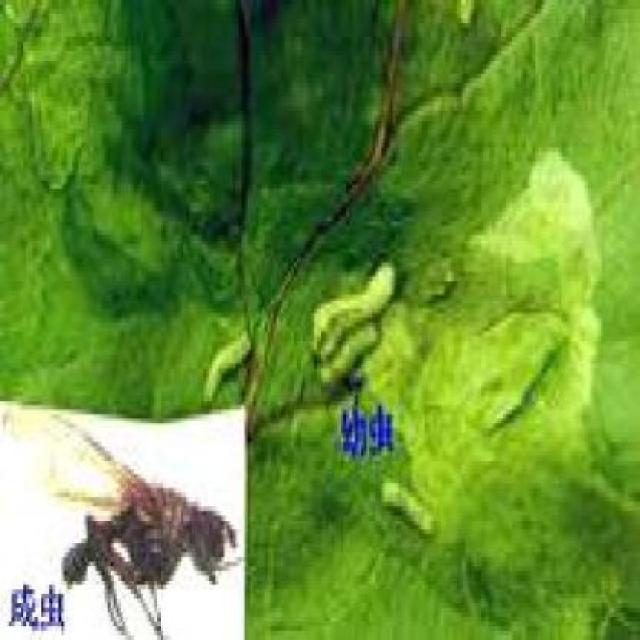whorl-maggot: (306, 237, 396, 398), (192, 314, 257, 411), (380, 460, 440, 546)
